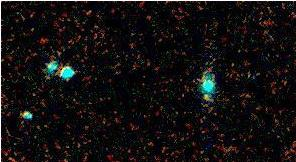star: (190, 81, 220, 111)
